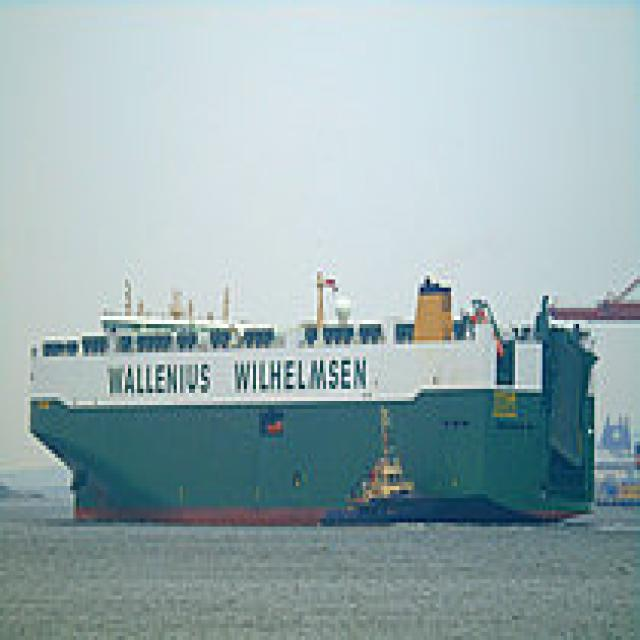Carrier: (22, 276, 594, 526)
